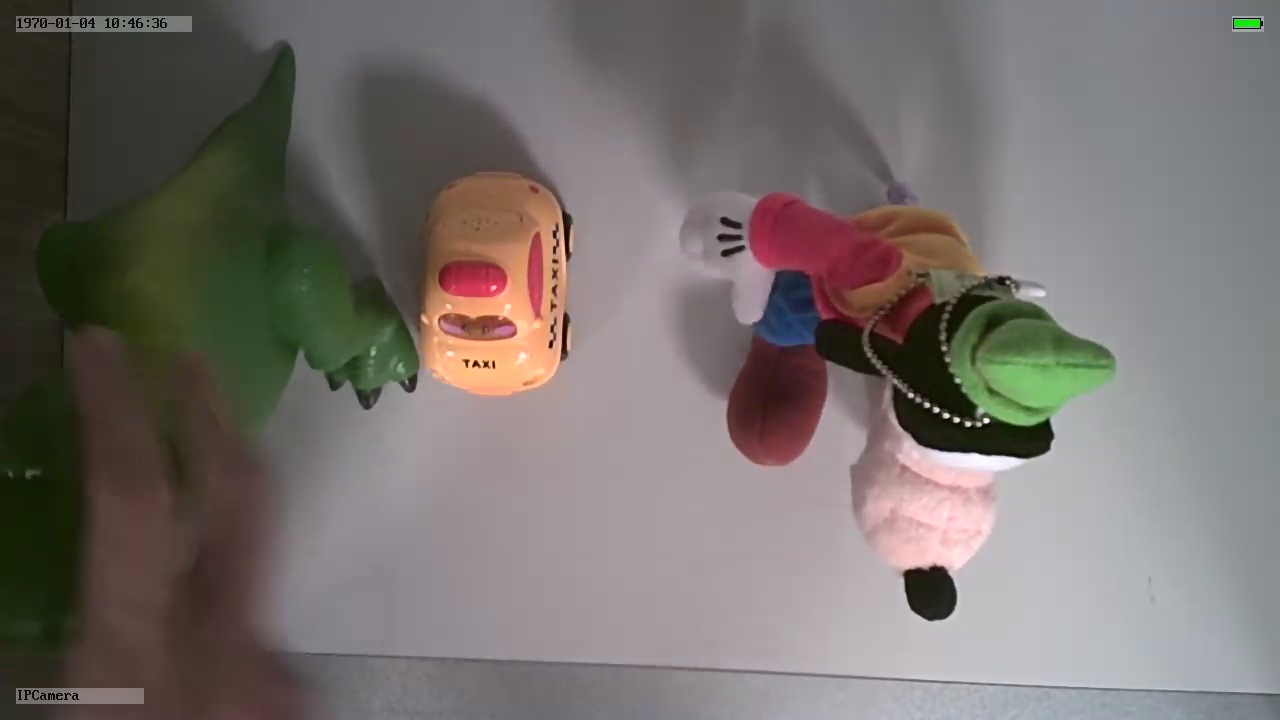car: (413, 164, 578, 398)
goofy: (676, 183, 1116, 624)
